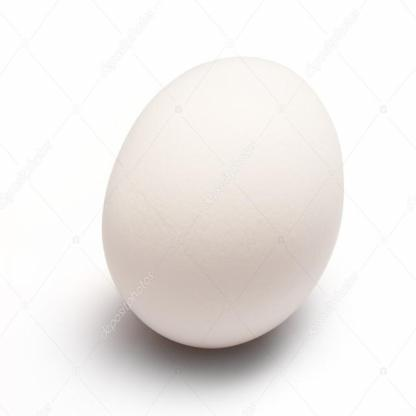egg: (97, 52, 351, 352)
